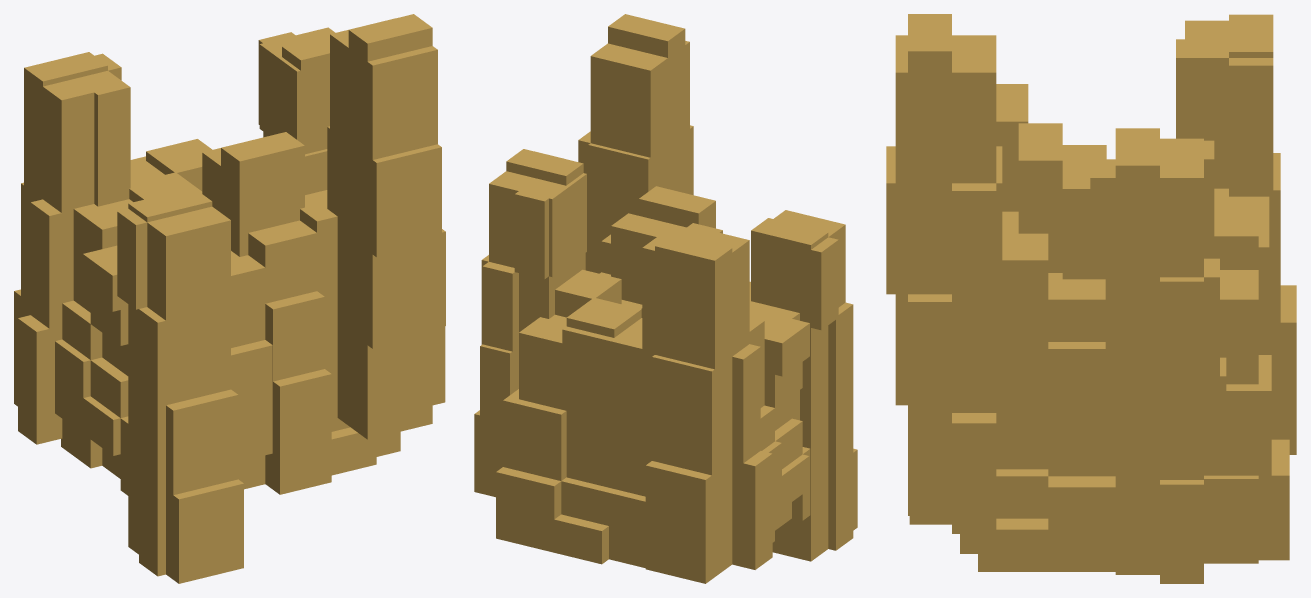
File: rock2.fbx
3 views of the same model, side by side, from view 1: azimuth 30°, elevation 25°; view 2: azimuth 150°, elevation 25°; view 3: azimuth 270°, elevation 25° (orthographic). The views are drawn at different scales.
Visible parts, largest first — view 1: Cube.001; view 2: Cube.001; view 3: Cube.001.
Part boxes in pixels (box(x1,y1,x2,y2)): Cube.001: box(14, 14, 445, 583); Cube.001: box(474, 14, 857, 583); Cube.001: box(886, 14, 1296, 583).
Bounding box in the file's own units: 969 × 1454 × 931.
